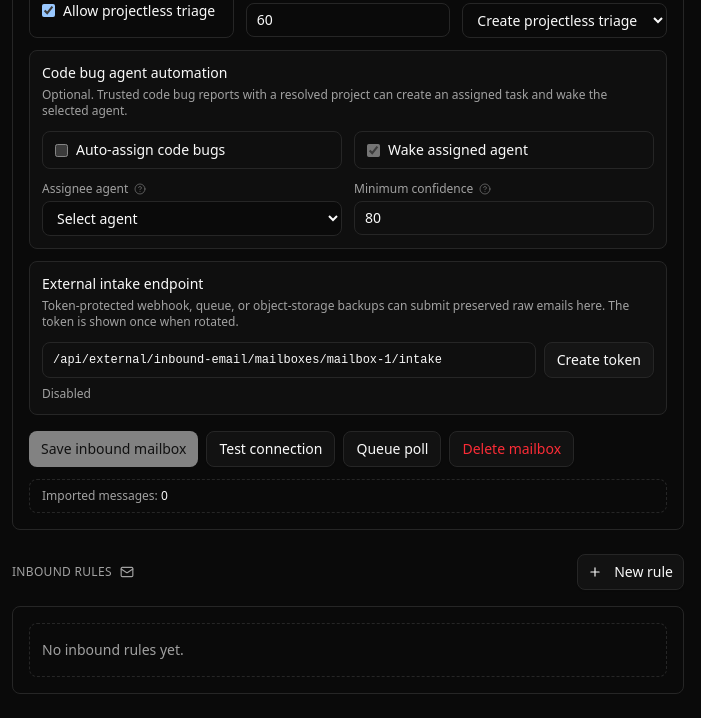
Test: CompanyEmailSettings › rotates and revokes an external intake token
The image size is (701, 718).
(page scrolled)
Check: the field with test id "company-settings-inbound-external-intake-endpoint" holds "/api/external/inbound-email/mailboxes/mailbox-1/intake", box [42,342,536,378]
Click the button with test id "company-settings-inbound-external-intake-rotate": (599, 360) [544,342,654,378]
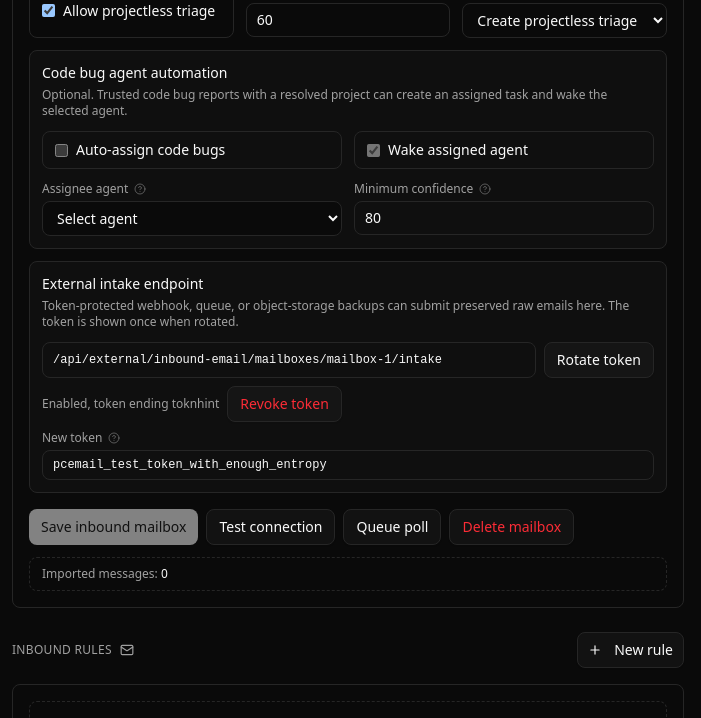
Check: the text "Enabled, token ending toknhint" is shown, box [42,396,219,412]
Check: the field with test id "company-settings-inbound-external-intake-token" holds "pcemail_test_token_with_enough_entropy", box [42,450,654,480]
Click the button with test id "company-settings-inbound-external-intake-revoke": (285, 404) [227,386,342,422]
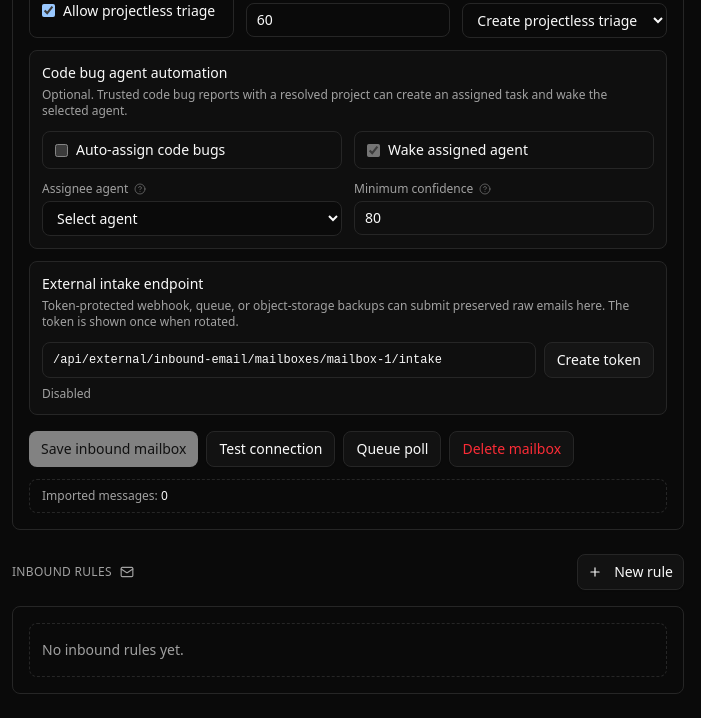
Check: the text "Disabled" is shown, box [42,386,91,402]
